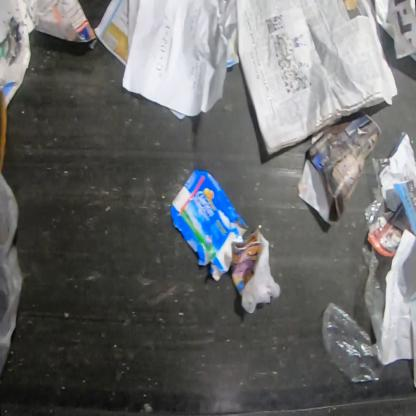cardboard: (171, 169, 247, 282), (0, 91, 7, 174)
soft_plastic: (322, 242, 393, 384), (0, 174, 23, 376), (364, 158, 391, 226)
